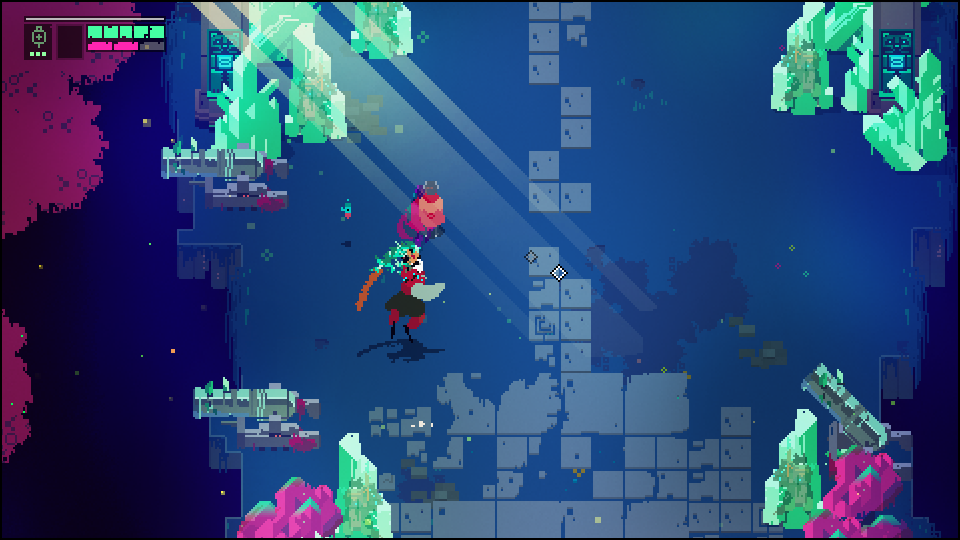hanged_man: (353, 242, 447, 353)
player: (418, 176, 444, 242)
